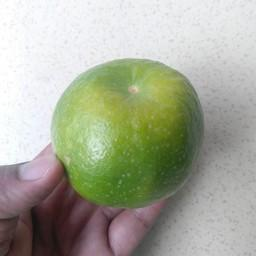Good_orange: (51, 56, 202, 209)
